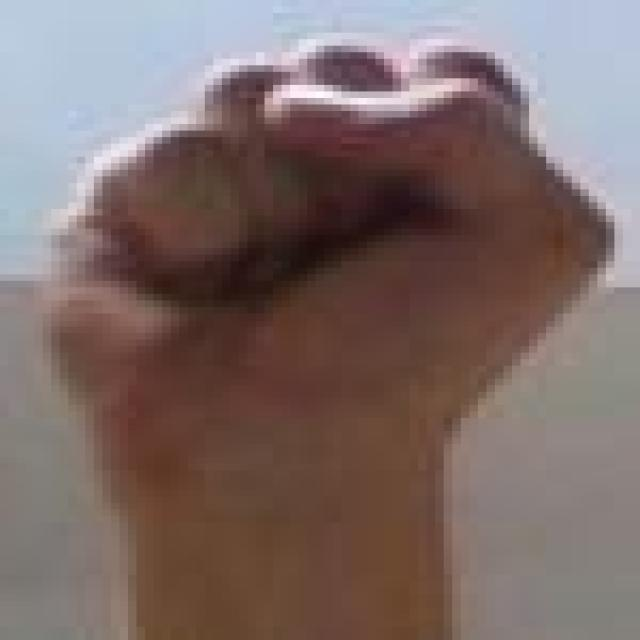S: (9, 14, 640, 424)
